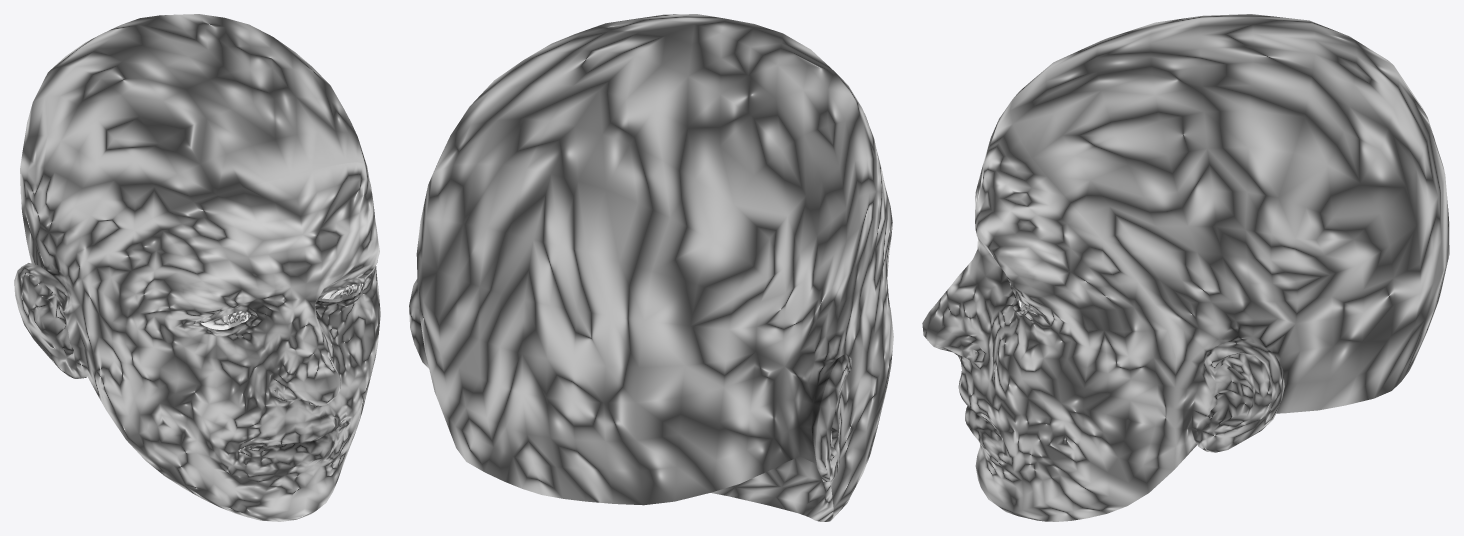
The model's file is singer0.obj.
The picture shows the model from 3 angles, left to right: view 1: azimuth 30°, elevation 25°; view 2: azimuth 150°, elevation 25°; view 3: azimuth 270°, elevation 25°; orthographic projection. The views are drawn at different scales.
Parts seen in each view (by area): view 1: head, eyeRight, eyeLeft; view 2: head; view 3: head.
Boxes of the visible parts, bbox=[...] form: head: bbox=[14, 14, 380, 521]; eyeRight: bbox=[201, 311, 250, 329]; eyeLeft: bbox=[318, 283, 362, 302]; head: bbox=[409, 14, 893, 521]; head: bbox=[922, 14, 1449, 521].
Size of the model in its own units: 17.7 by 21.75 by 21.92.
